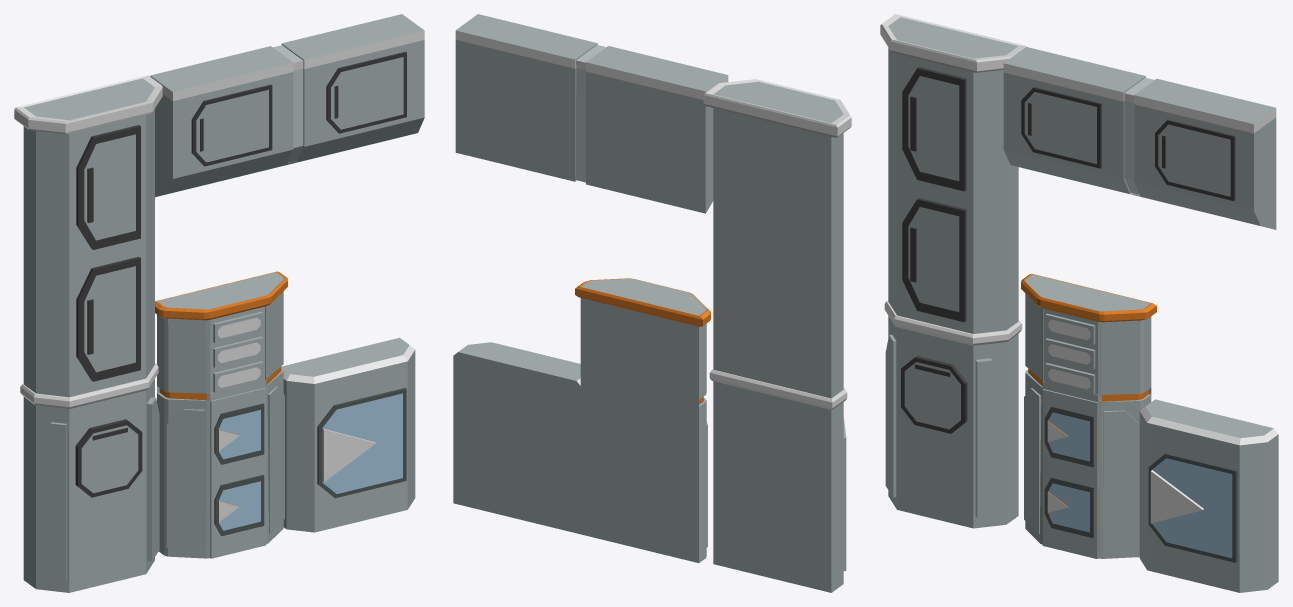
File: Livin-Room-2-Cabinet-1.fbx
3 views of the same model, side by side, from view 1: azimuth 30°, elevation 25°; view 2: azimuth 150°, elevation 25°; view 3: azimuth 330°, elevation 25° (orthographic).
Parts seen in each view (by area): view 1: Livin-Room-2-Cabinet-1; view 2: Livin-Room-2-Cabinet-1; view 3: Livin-Room-2-Cabinet-1.
Part boxes in pixels (x1,y1,x2,y2): Livin-Room-2-Cabinet-1: (14, 14, 424, 592); Livin-Room-2-Cabinet-1: (453, 14, 851, 592); Livin-Room-2-Cabinet-1: (880, 14, 1278, 592).
Size of the model in its own units: 4.78 by 5.6 by 0.618.
